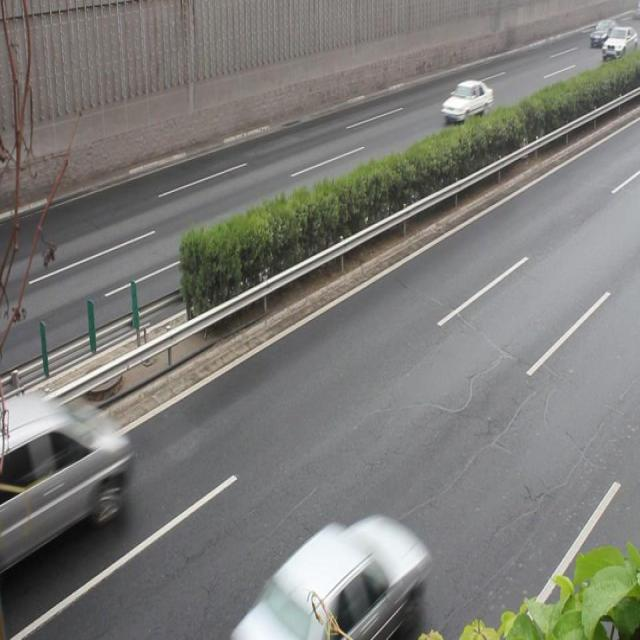car: (242, 513, 424, 640), (442, 78, 492, 121)
truck: (1, 395, 131, 561)
